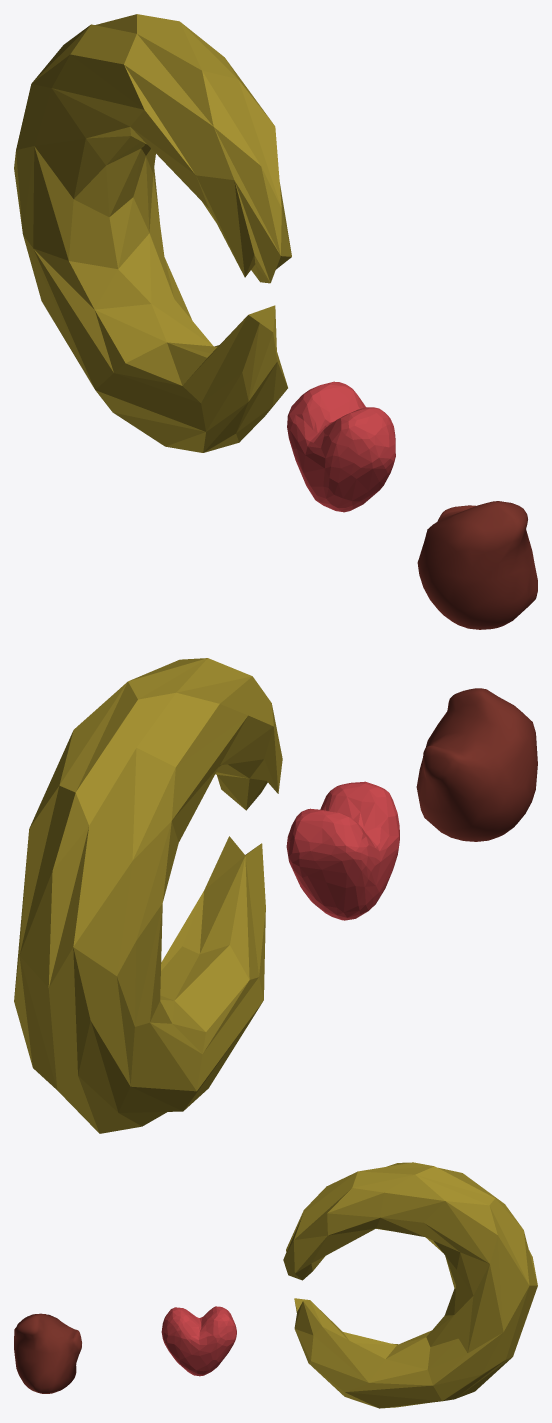
Rendered from Collectables.fbx.
The picture shows the model from 3 angles, top to bottom: view 1: azimuth 30°, elevation 25°; view 2: azimuth 150°, elevation 25°; view 3: azimuth 270°, elevation 25°; orthographic projection. The views are drawn at different scales.
Parts seen in each view (by area): view 1: Moon, Heart_beat, Heart; view 2: Moon, Heart_beat, Heart; view 3: Moon, Heart_beat, Heart.
Part boxes in pixels (bbox=[...]): Moon: bbox=[14, 14, 291, 452]; Heart_beat: bbox=[417, 501, 537, 629]; Heart: bbox=[287, 381, 395, 512]; Moon: bbox=[14, 658, 282, 1133]; Heart_beat: bbox=[416, 688, 537, 841]; Heart: bbox=[286, 781, 399, 920]; Moon: bbox=[283, 1162, 537, 1408]; Heart_beat: bbox=[14, 1313, 81, 1393]; Heart: bbox=[161, 1306, 236, 1376].
Bounding box in the file's own units: 201 × 1215 × 608.
